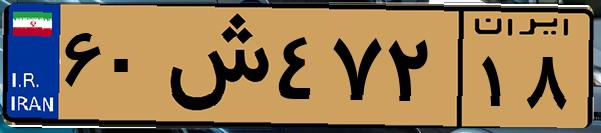0: (110, 28, 158, 98)
1: (475, 38, 525, 113)
2: (385, 28, 445, 110)
4: (270, 28, 330, 110)
6: (57, 26, 110, 100)
7: (330, 28, 385, 110)
8: (525, 38, 570, 115)
ش: (158, 12, 270, 120)
